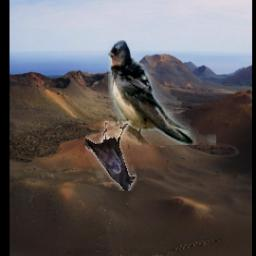Crow: (85, 121, 137, 191)
Swallow: (108, 40, 216, 145)
